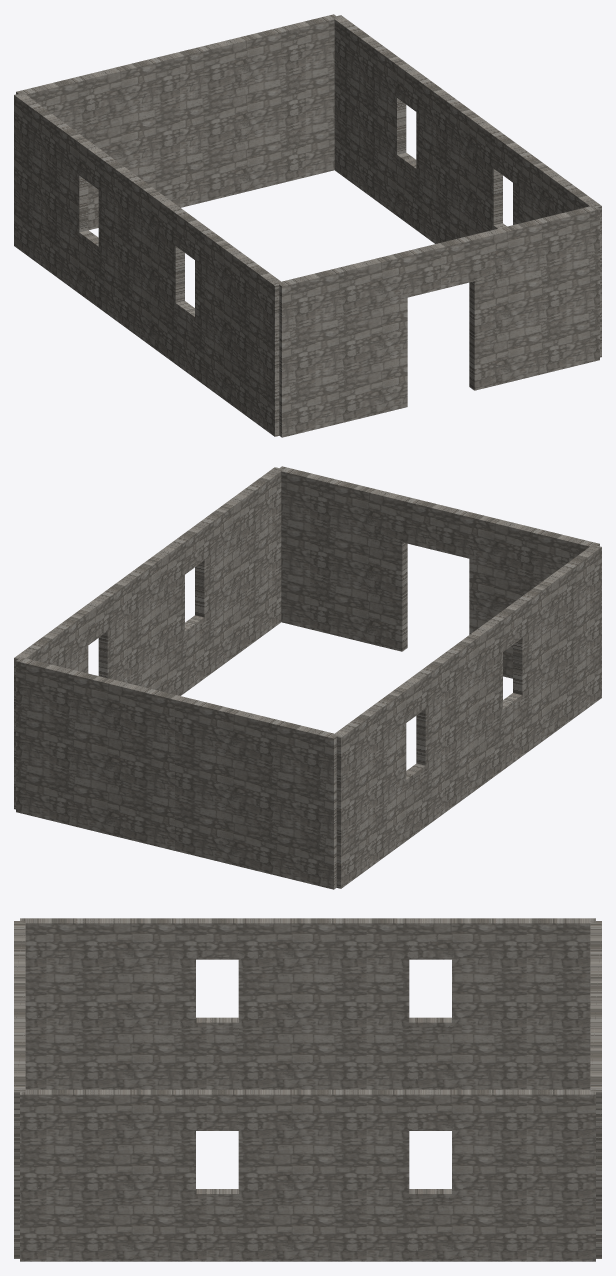
Rendered from BW_Chapel01_Masonry.fbx.
3 views of the same model, one above another, from view 1: azimuth 30°, elevation 25°; view 2: azimuth 150°, elevation 25°; view 3: azimuth 270°, elevation 25° (orthographic). The views are drawn at different scales.
Parts seen in each view (by area): view 1: BW_Chapel01_Masonry; view 2: BW_Chapel01_Masonry; view 3: BW_Chapel01_Masonry.
Boxes of the visible parts, x1=… form: BW_Chapel01_Masonry: x1=14, y1=14, x2=601, y2=437; BW_Chapel01_Masonry: x1=14, y1=466, x2=601, y2=889; BW_Chapel01_Masonry: x1=14, y1=918, x2=601, y2=1261.
Bounding box in the file's own units: 7.82 × 3.45 × 11.02.
